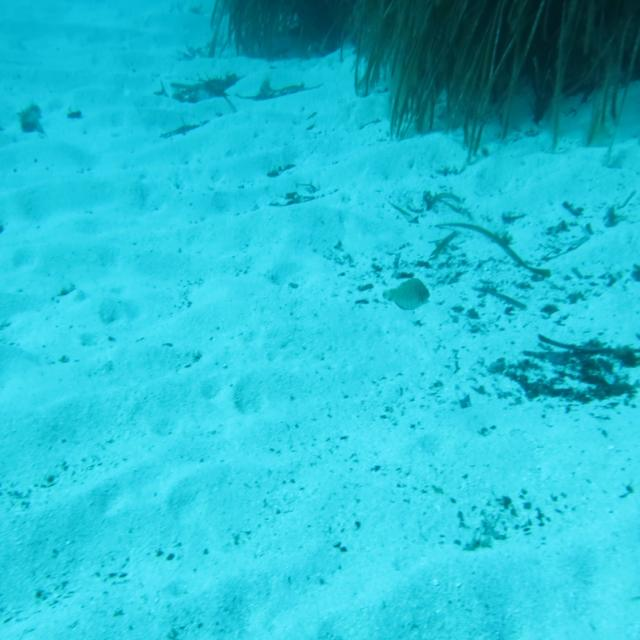SA: (378, 265, 440, 318)
vegetation: (203, 0, 637, 144)
